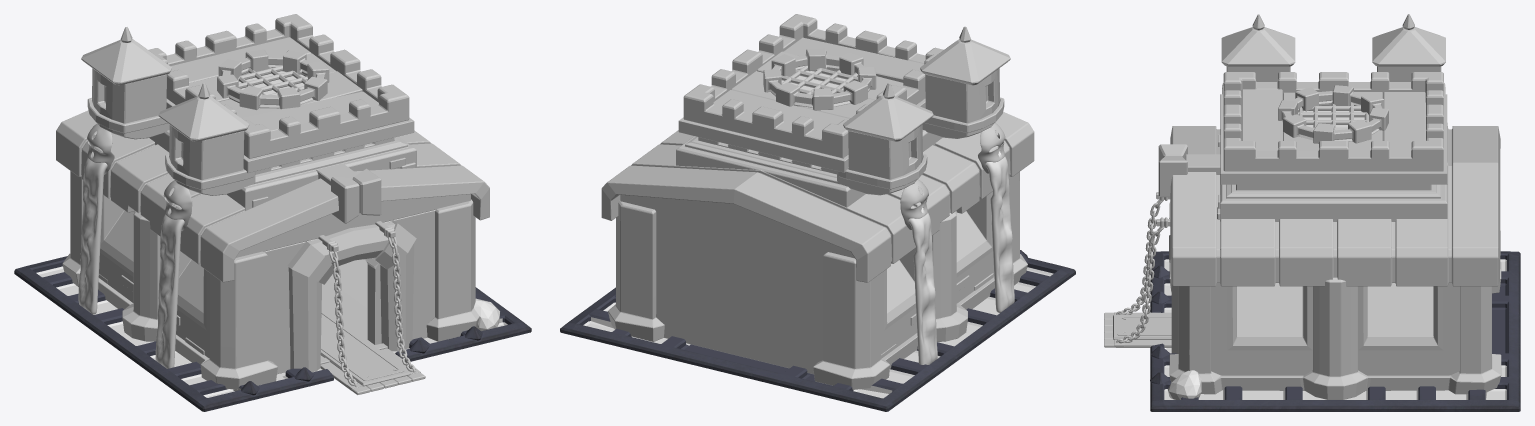
File: Village_House_2.fbx
The picture shows the model from 3 angles, left to right: view 1: azimuth 30°, elevation 25°; view 2: azimuth 150°, elevation 25°; view 3: azimuth 270°, elevation 25°; orthographic projection. The views are drawn at different scales.
Visible parts, largest first — view 1: Top_Model, Down_Model, Plane, Lava_2, Lava_1; view 2: Top_Model, Down_Model, Plane, Lava_1, Lava_2; view 3: Top_Model, Down_Model, Plane.
Boxes of the visible parts, <box> form: Top_Model: <box>56,14,489,282</box>; Down_Model: <box>62,171,479,394</box>; Plane: <box>14,71,531,411</box>; Lava_2: <box>78,151,107,314</box>; Lava_1: <box>155,208,184,368</box>; Top_Model: <box>601,14,1034,282</box>; Down_Model: <box>608,172,1027,389</box>; Plane: <box>560,71,1075,411</box>; Lava_1: <box>986,151,1014,312</box>; Lava_2: <box>909,207,937,364</box>; Top_Model: <box>1158,14,1500,286</box>; Down_Model: <box>1104,192,1501,399</box>; Plane: <box>1150,111,1520,411</box>.
Size of the model in its own units: 424 by 344 by 476.
